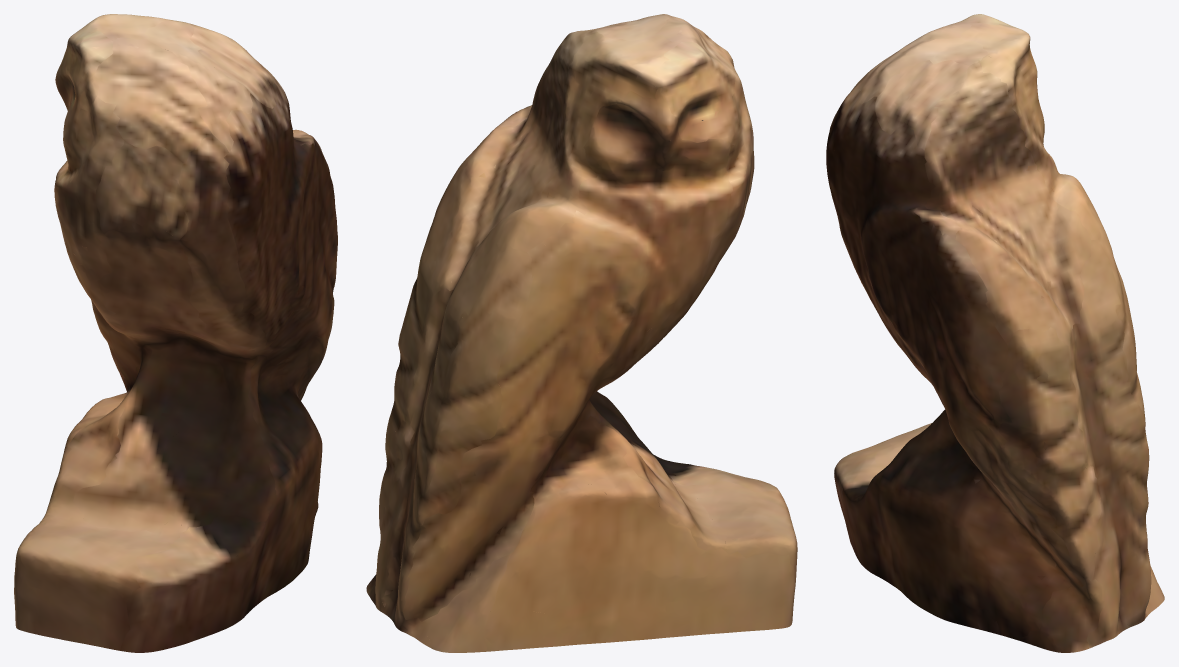
File: owl_f2dd0ea3.glb
The picture shows the model from 3 angles, left to right: view 1: azimuth 30°, elevation 25°; view 2: azimuth 150°, elevation 25°; view 3: azimuth 270°, elevation 25°; orthographic projection. The views are drawn at different scales.
Parts seen in each view (by area): view 1: Object_2; view 2: Object_2; view 3: Object_2.
Boxes of the visible parts, x1,y1,x2,y2 form: Object_2: [14, 14, 337, 652]; Object_2: [366, 14, 797, 652]; Object_2: [826, 14, 1164, 652].
Size of the model in its own units: 0.3913 by 0.5805 by 0.3452.
1 material, 1 textured.
